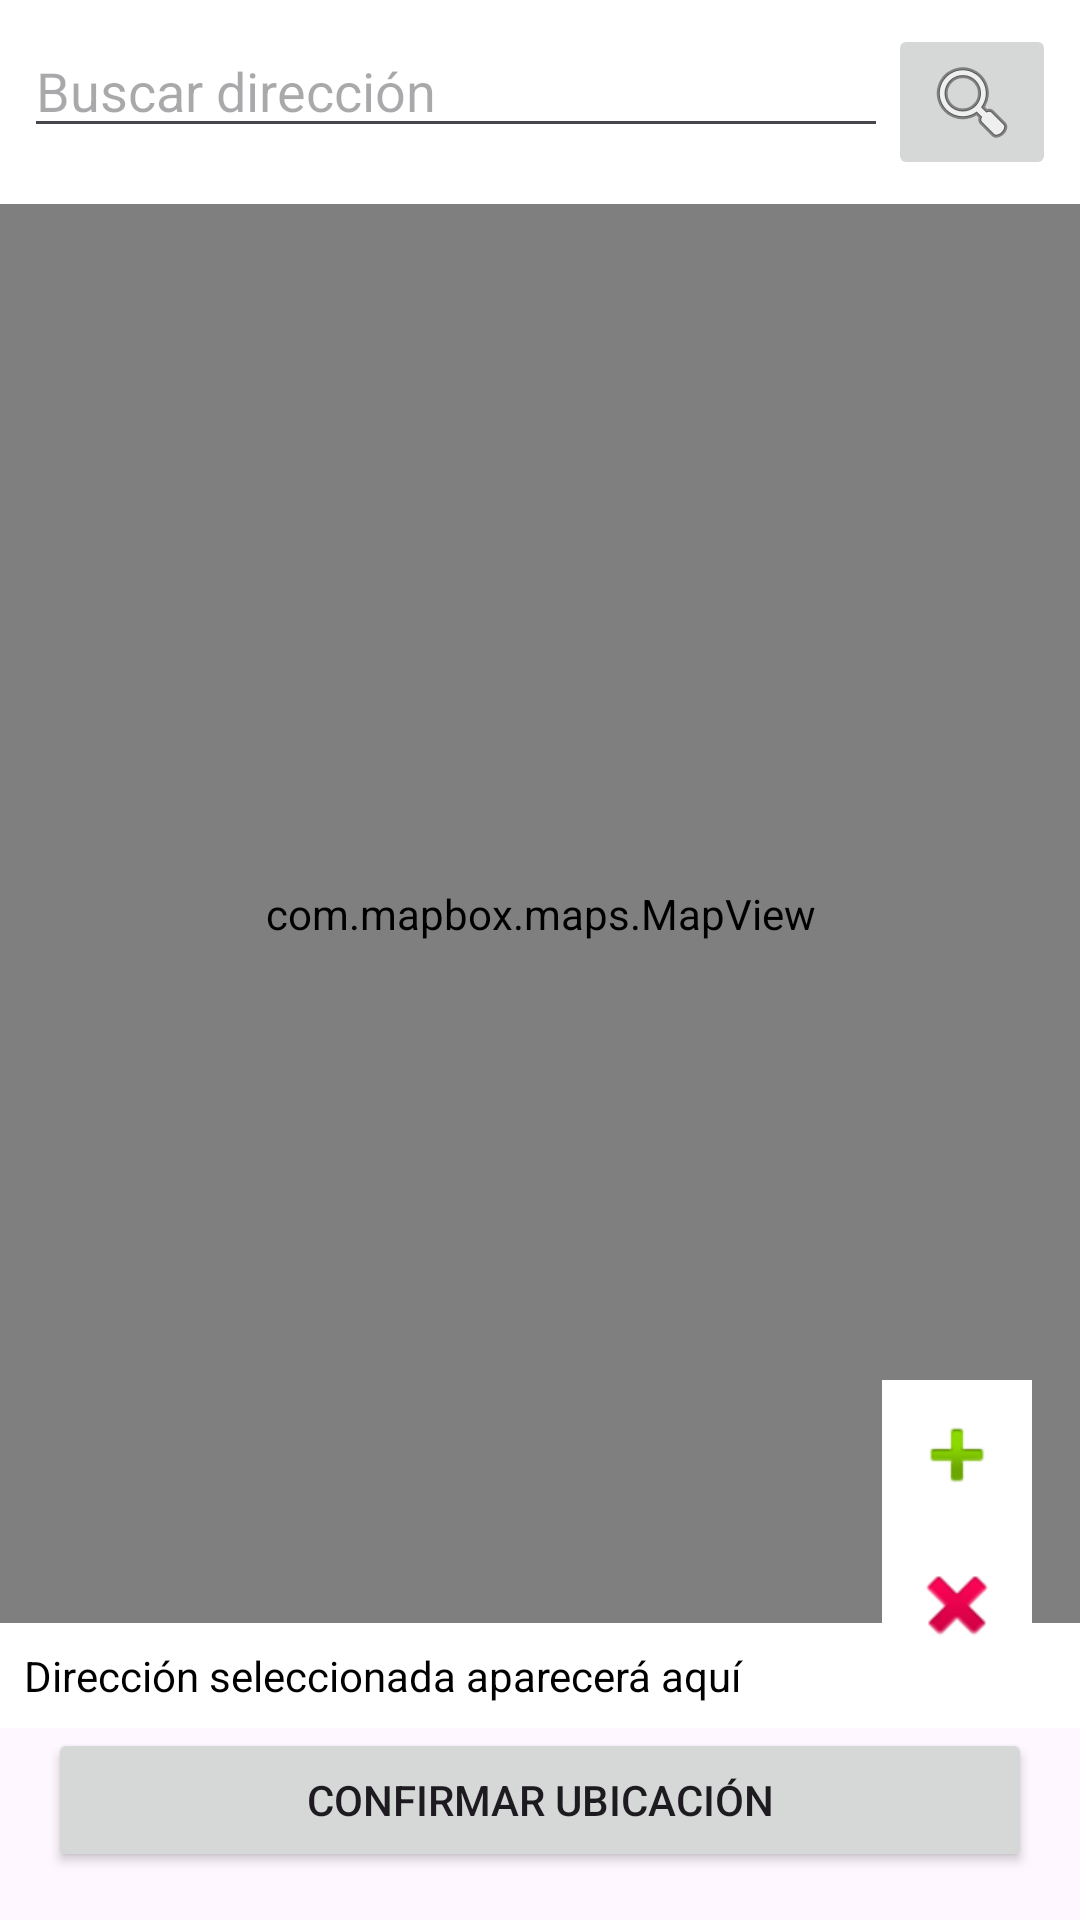

Where icons sit on this 1080 x 1920 app screen, as bbox=(x1, y1, x2, y2):
Zoom In: bbox=(882, 1380, 1032, 1530)
